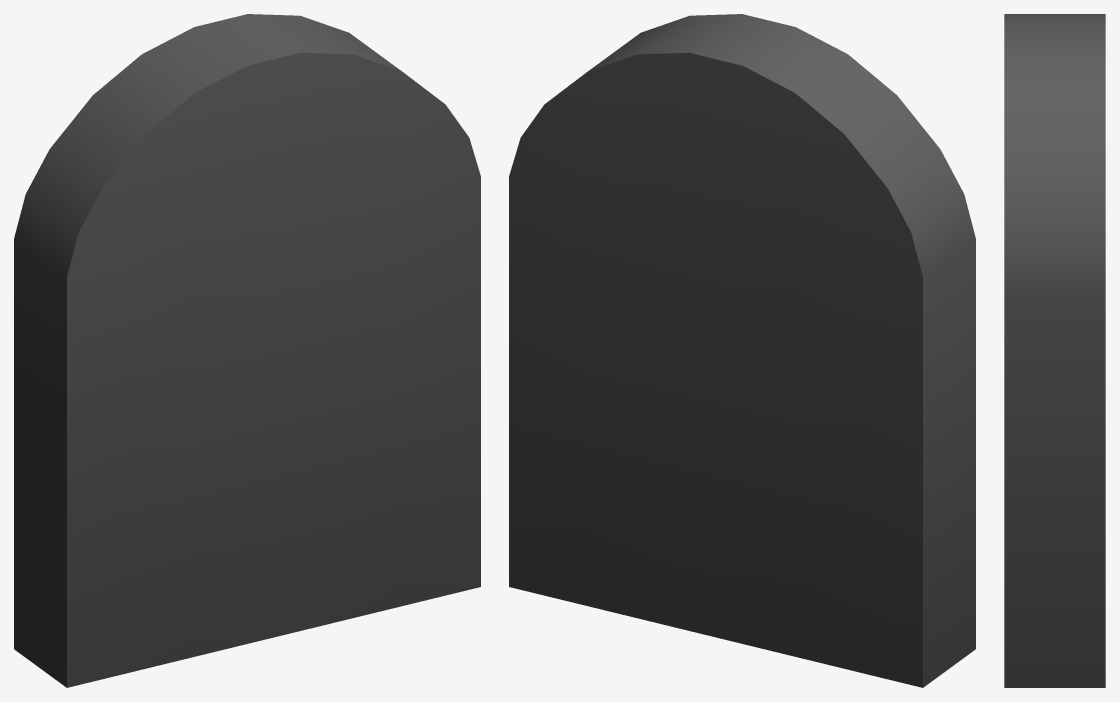
Rendered from Mezarlık.001.fbx.
3 renders of one model, left to right at view 1: azimuth 30°, elevation 25°; view 2: azimuth 150°, elevation 25°; view 3: azimuth 270°, elevation 25°, orthographic. The views are drawn at different scales.
Visible parts, largest first — view 1: Mezarlık.001; view 2: Mezarlık.001; view 3: Mezarlık.001.
Part boxes in pixels (left/top/right/bottom): Mezarlık.001: left=14, top=14, right=480, bottom=687; Mezarlık.001: left=509, top=14, right=975, bottom=687; Mezarlık.001: left=1004, top=14, right=1105, bottom=687.
Size of the model in its own units: 200 by 267 by 44.28.
